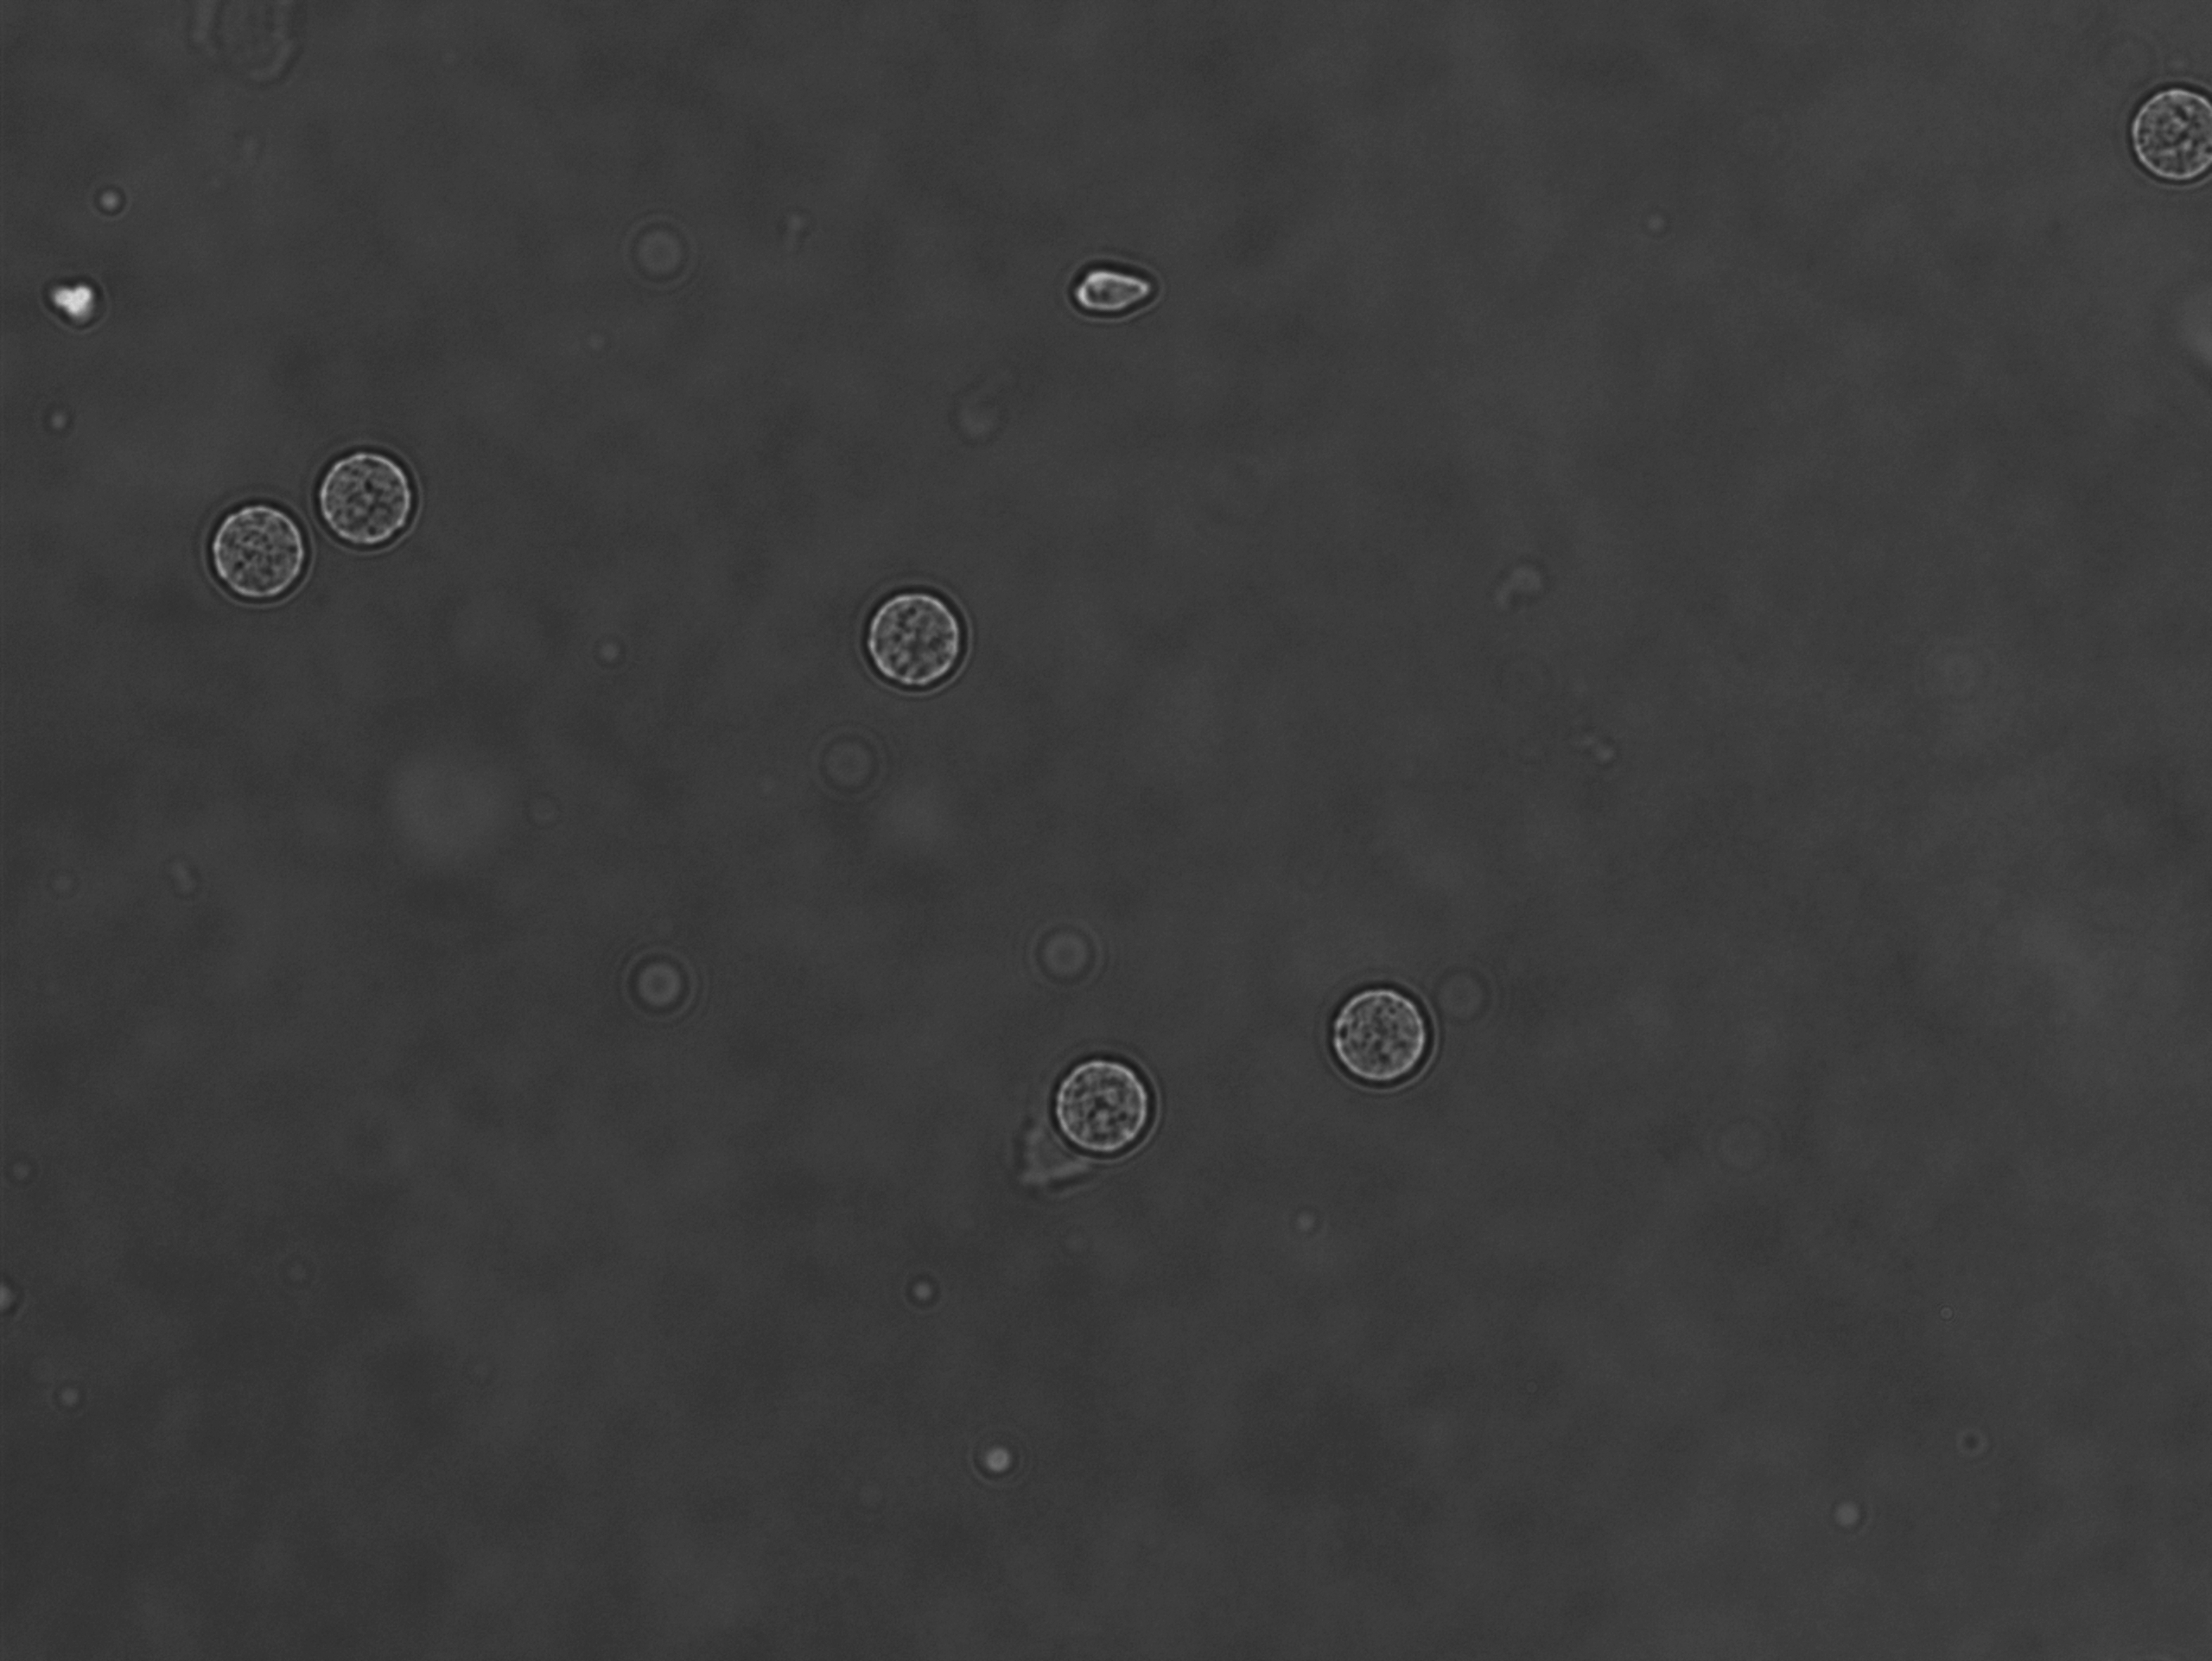depth:0: (846, 569, 998, 726), (1022, 1010, 1169, 1165), (1308, 968, 1446, 1090), (201, 478, 314, 611), (316, 438, 436, 557), (2128, 72, 2212, 201)
